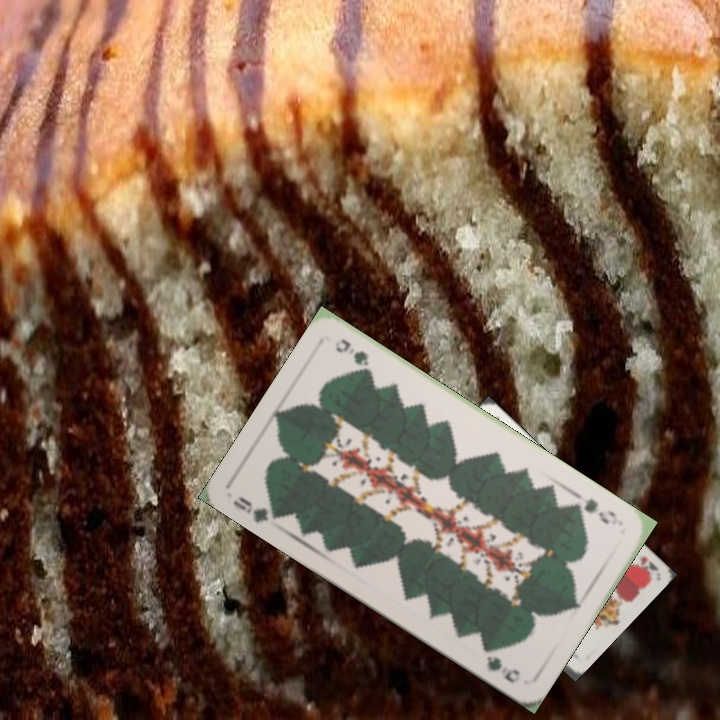G9: (229, 492, 285, 526), (568, 494, 623, 528)
HK: (633, 552, 660, 579)
